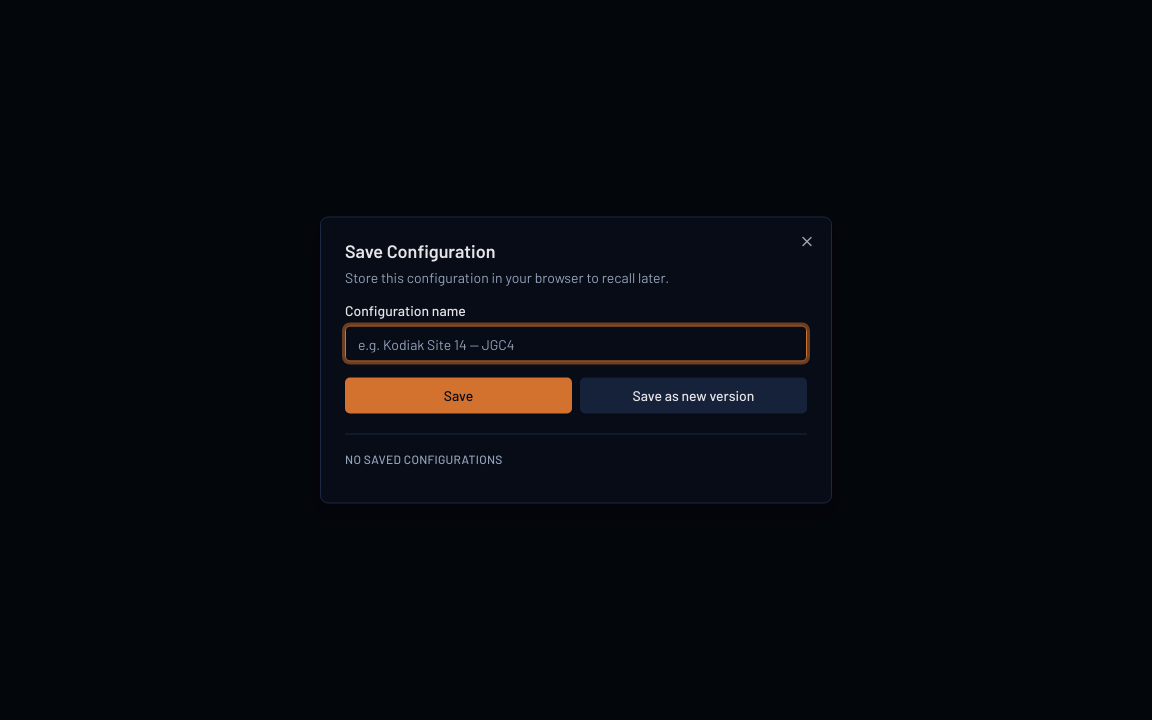
it: SaveLoadModal › saves the current configuration
Click the button "Save" at (458, 396), box [345,378,572,414]
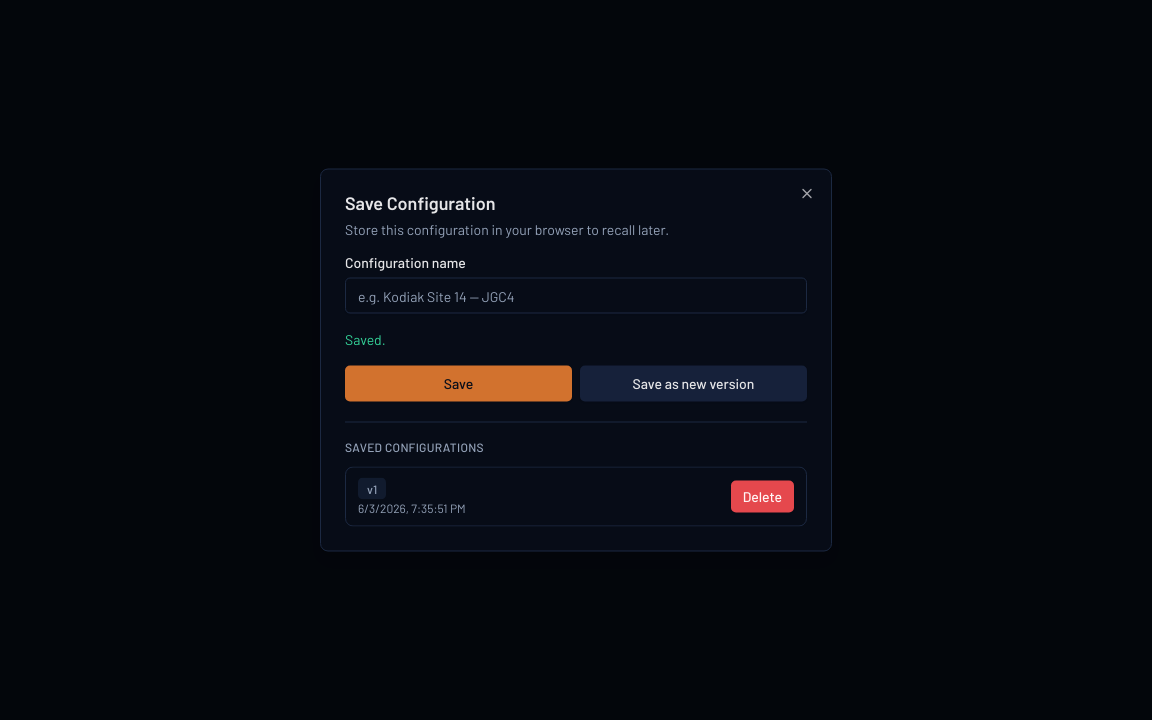
Check: the text "Saved." is shown, box [345,330,386,348]
